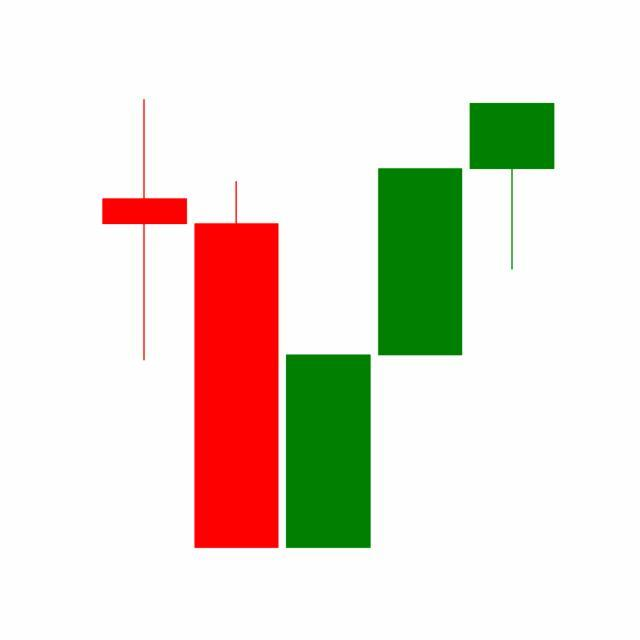Hammer: (466, 101, 559, 272)
